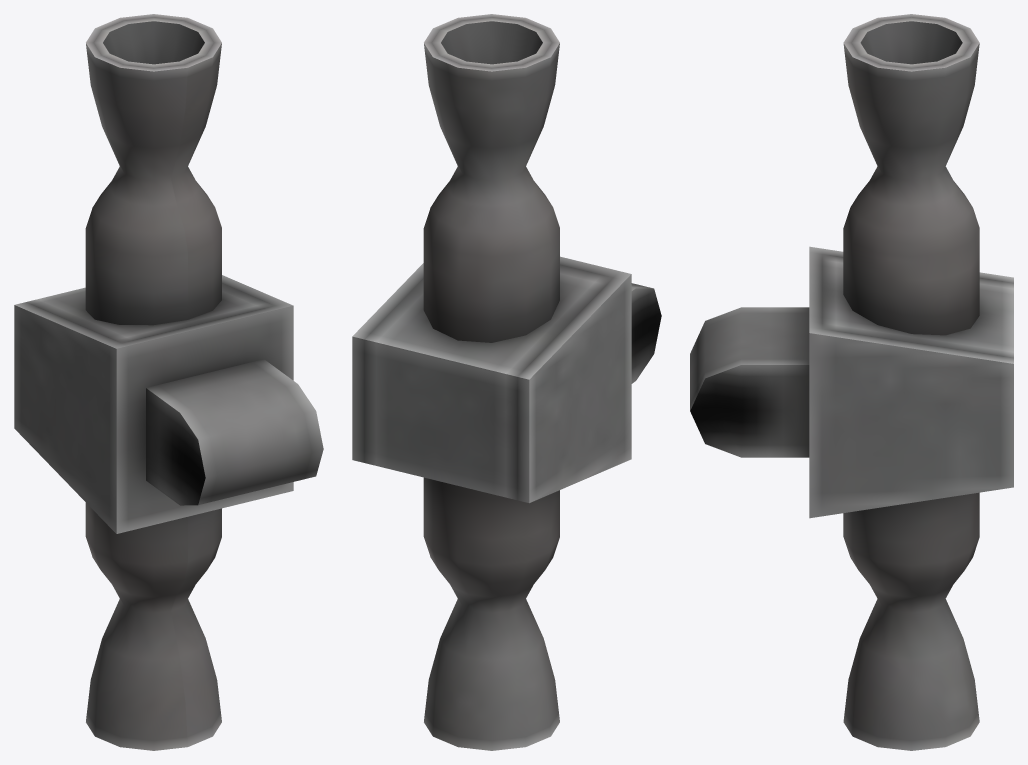
Rendered from rcs_head.obj.
The picture shows the model from 3 angles, left to right: view 1: azimuth 30°, elevation 25°; view 2: azimuth 150°, elevation 25°; view 3: azimuth 270°, elevation 25°; orthographic projection.
Visible parts, largest first — view 1: 1; view 2: 1; view 3: 1.
Part boxes in pixels (x1,y1,x2,y2): 1: (14,14,323,750); 1: (352,14,661,750); 1: (690,14,1013,750).
Bounding box in the file's own units: 0.075 × 0.275 × 0.1188.
1 material, 1 textured.
